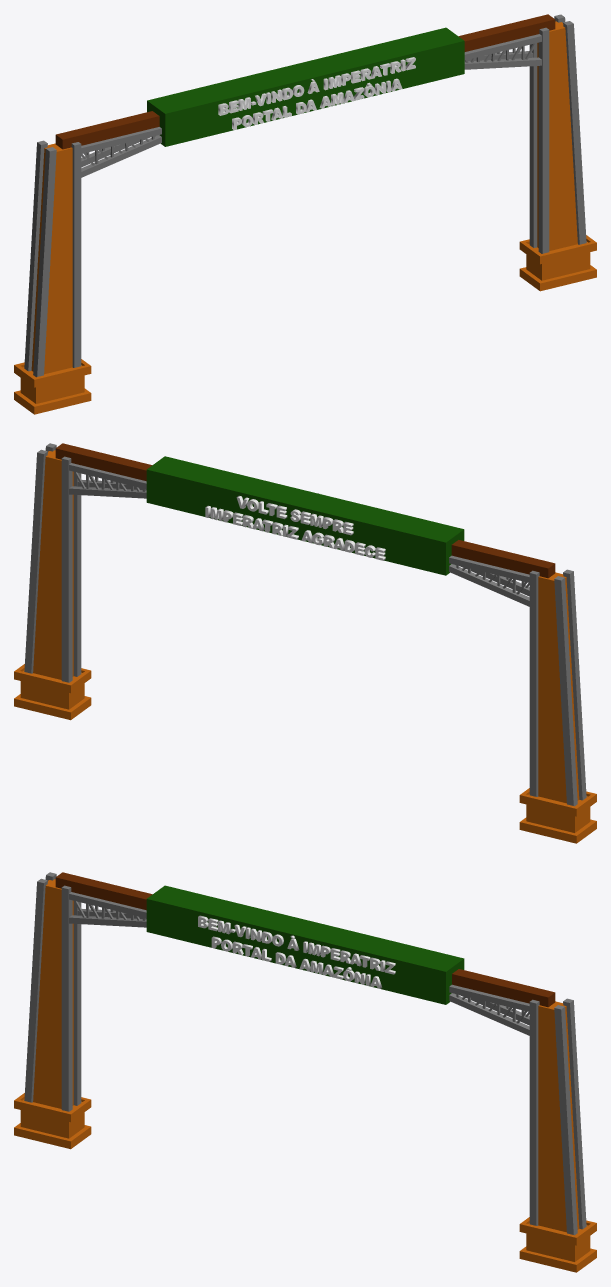
The model's file is Bem-vindo.fbx.
3 views of the same model, one above another, from view 1: azimuth 30°, elevation 25°; view 2: azimuth 150°, elevation 25°; view 3: azimuth 330°, elevation 25° (orthographic).
Parts seen in each view (by area): view 1: O-Placa; view 2: O-Placa; view 3: O-Placa.
Boxes of the visible parts, bbox=[...] form: O-Placa: bbox=[14, 14, 596, 414]; O-Placa: bbox=[14, 443, 596, 843]; O-Placa: bbox=[14, 872, 596, 1272].
Bounding box in the file's own units: 5487 × 2498 × 380.
